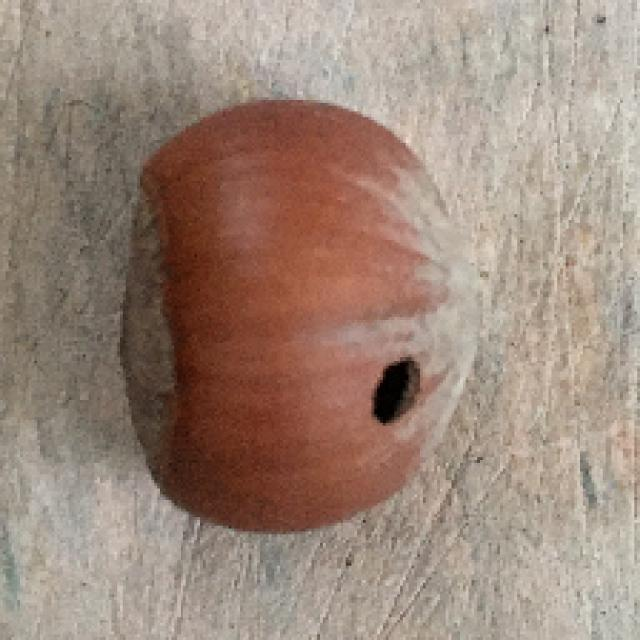damagedHazelnut: (109, 96, 483, 544)
